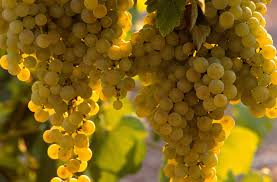Green grapes: (11, 8, 123, 182), (133, 17, 244, 181), (206, 2, 277, 116)
